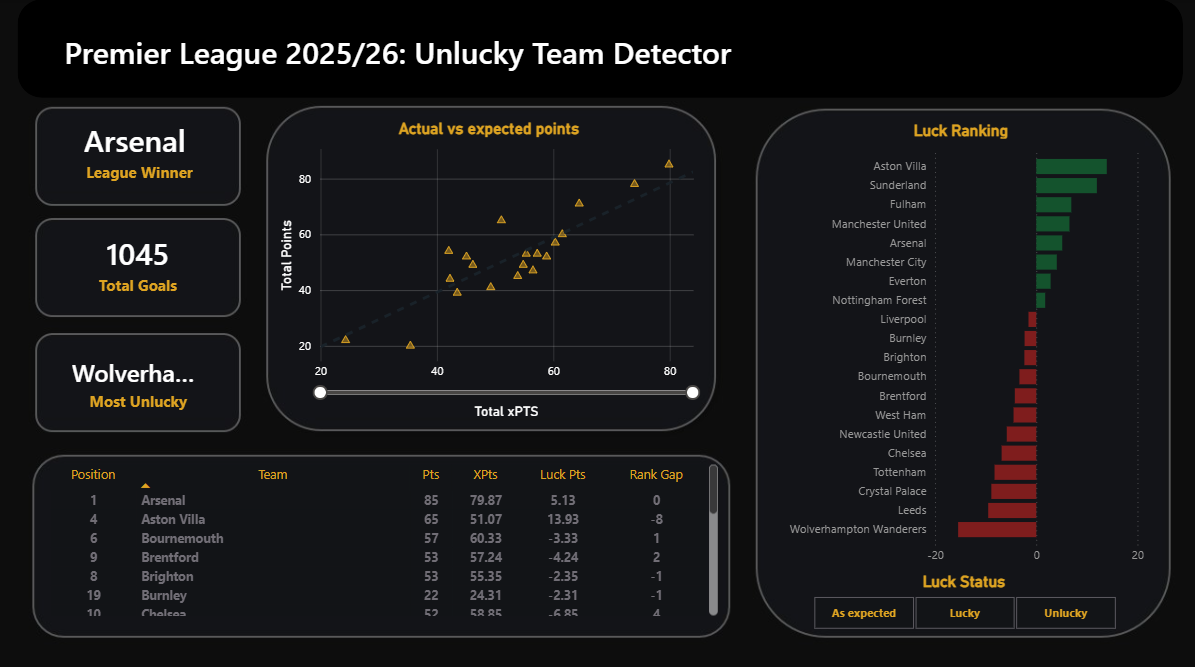

The page's visual inventory and layout, read from the dashboard file:
{"tool":"powerbi","page":{"name":"League Overview","canvas":[1280,720],"ordinal":0},"visuals":[{"type":"textbox","box":[184.6,22.7,944,95.5],"z":0},{"type":"scatterChart","title":"Actual vs expected points","fields":{"X":["season_table.Total xPTS"],"Y":["season_table.Total Points"],"Category":["season_table.team"]},"box":[292,128,456,322],"z":1000},{"type":"clusteredBarChart","title":"Luck Ranking","fields":{"Category":["season_table.team"],"Y":["season_table.Points Luck"]},"box":[822.3,128.8,397.7,478.8],"z":2000},{"type":"slicer","title":"Luck Status","fields":{"Values":["season_table.luck_label"]},"box":[839.8,607.6,369,66.8],"z":3000},{"type":"cardVisual","fields":{"Data":["season_table.League Winner"]},"box":[62.2,104.7,176.7,111.3],"z":4000},{"type":"tableEx","title":"League table vs expected table","fields":{"Values":["Sum(season_table.table_rank)","season_table.team","Sum(season_table.pts)","Sum(season_table.xpts)","Sum(season_table.pts_luck)","Sum(season_table.rank_gap)"]},"box":[49.3,488.3,719,170.2],"z":5000},{"type":"cardVisual","fields":{"Data":["season_table.Total Goals"]},"box":[49.3,227.5,198.8,106.6],"z":6000},{"type":"cardVisual","fields":{"Data":["season_table.Most Unlucky"]},"box":[49.1,360,199.6,96.5],"z":7000},{"type":"shape","box":[20.7,0,1235.9,105],"z":7500},{"type":"textbox","box":[49.3,28.6,749.2,82.7],"z":8000}]}

Visuals, with their boxes in screenshot pixels (x1, y1, x2, y2), scaled from the page's 1280x720 canvas onto the 1195x667 screenshot:
textbox: box(172, 21, 1054, 109)
"Actual vs expected points" scatterChart: box(273, 119, 698, 417)
"Luck Ranking" clusteredBarChart: box(768, 119, 1139, 563)
"Luck Status" slicer: box(784, 563, 1129, 625)
cardVisual - season_table.League Winner: box(58, 97, 223, 200)
"League table vs expected table" tableEx: box(46, 452, 717, 610)
cardVisual - season_table.Total Goals: box(46, 211, 232, 310)
cardVisual - season_table.Most Unlucky: box(46, 334, 232, 423)
shape: box(19, 0, 1173, 97)
textbox: box(46, 26, 745, 103)
